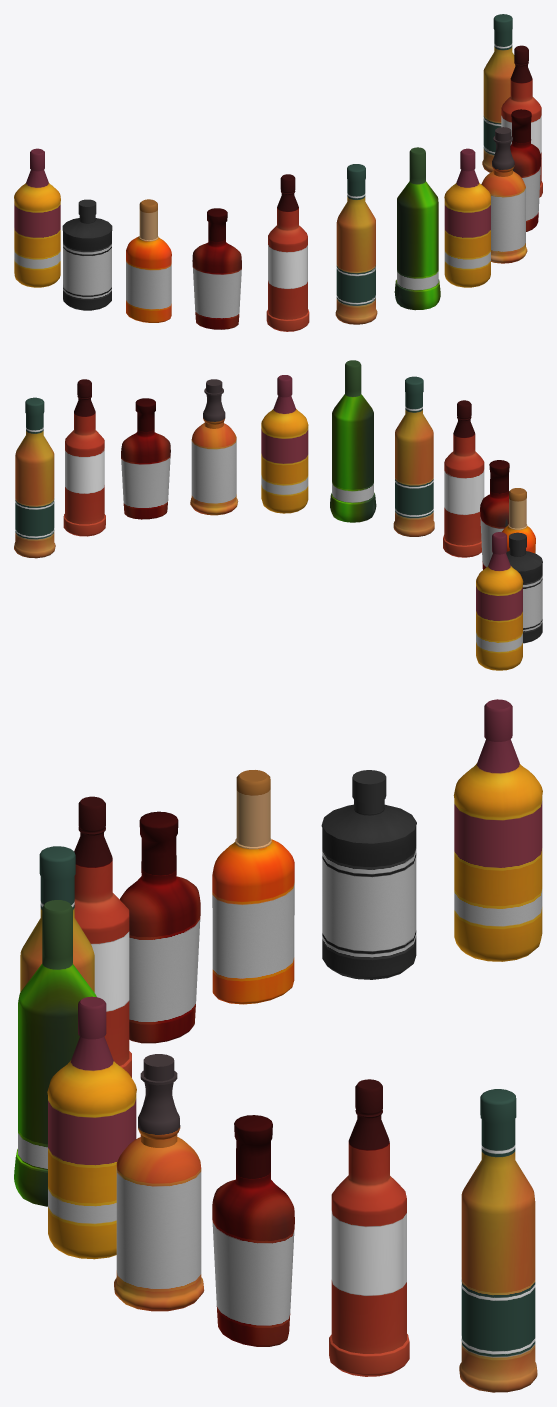
The model's file is Bottles01_13.FBX.
The picture shows the model from 3 angles, top to bottom: view 1: azimuth 30°, elevation 25°; view 2: azimuth 150°, elevation 25°; view 3: azimuth 270°, elevation 25°; orthographic projection. The views are drawn at different scales.
Visible parts, largest first — view 1: Bottles01_13; view 2: Bottles01_13; view 3: Bottles01_13.
Part boxes in pixels (box(x1,y1,x2,y2)): Bottles01_13: box(14, 14, 542, 331); Bottles01_13: box(14, 360, 542, 670); Bottles01_13: box(14, 699, 542, 1392).
Bounding box in the file's own units: 107 × 30.73 × 51.66.
